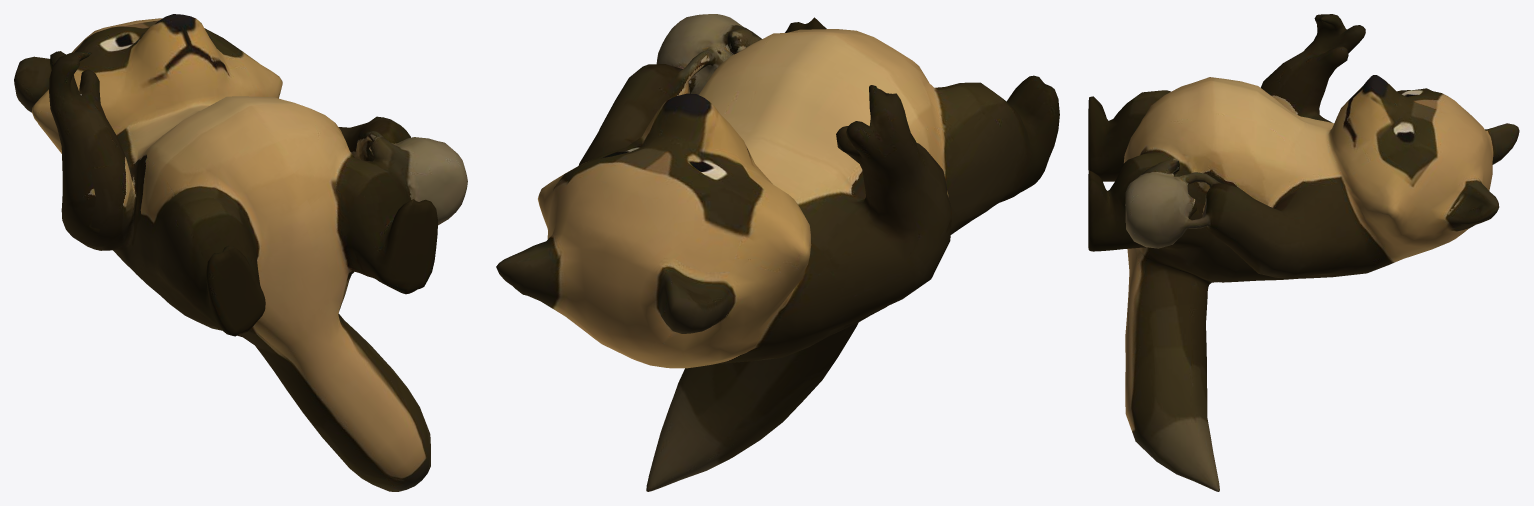
File: Mujina.glb
The picture shows the model from 3 angles, left to right: view 1: azimuth 30°, elevation 25°; view 2: azimuth 150°, elevation 25°; view 3: azimuth 270°, elevation 25°; orthographic projection. The views are drawn at different scales.
Parts seen in each view (by area): view 1: Retopo_Mujina.001; view 2: Retopo_Mujina.001; view 3: Retopo_Mujina.001.
Part boxes in pixels (x1,y1,x2,y2): Retopo_Mujina.001: (14,14,467,491); Retopo_Mujina.001: (496,14,1059,491); Retopo_Mujina.001: (1088,14,1519,491).
Size of the model in its own units: 1.38 by 1.85 by 1.94.
1 material, 1 textured.
